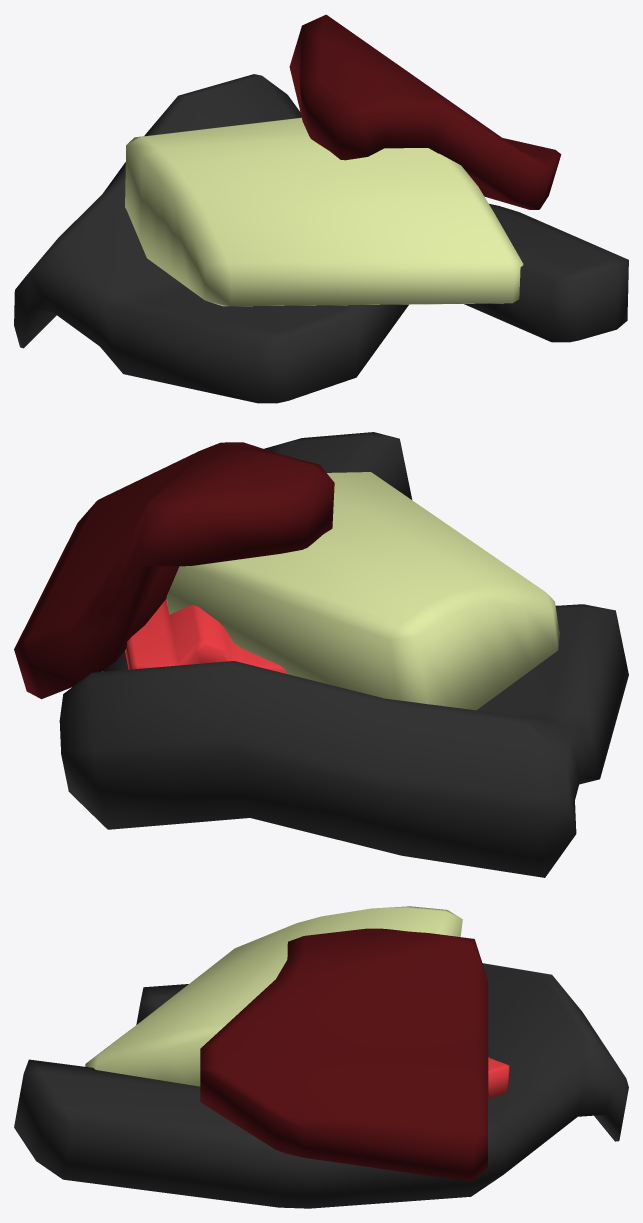
The model's file is pileOfDirtyLaundry.fbx.
The picture shows the model from 3 angles, top to bottom: view 1: azimuth 30°, elevation 25°; view 2: azimuth 150°, elevation 25°; view 3: azimuth 270°, elevation 25°; orthographic projection. The views are drawn at different scales.
Visible parts, largest first — view 1: Pile of Dirty Laundry; view 2: Pile of Dirty Laundry; view 3: Pile of Dirty Laundry.
Boxes of the visible parts, bbox=[...] form: Pile of Dirty Laundry: bbox=[14, 14, 628, 403]; Pile of Dirty Laundry: bbox=[14, 432, 628, 877]; Pile of Dirty Laundry: bbox=[14, 906, 628, 1208].
Size of the model in its own units: 72.73 by 79.87 by 36.05.
